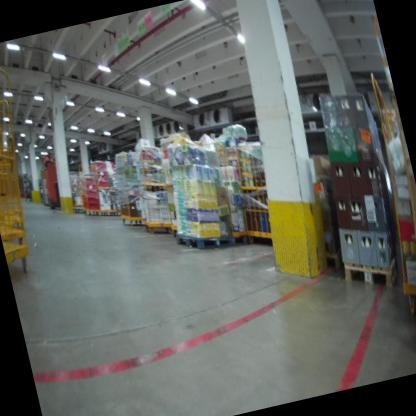pallet_truck: (35, 150, 66, 210)
